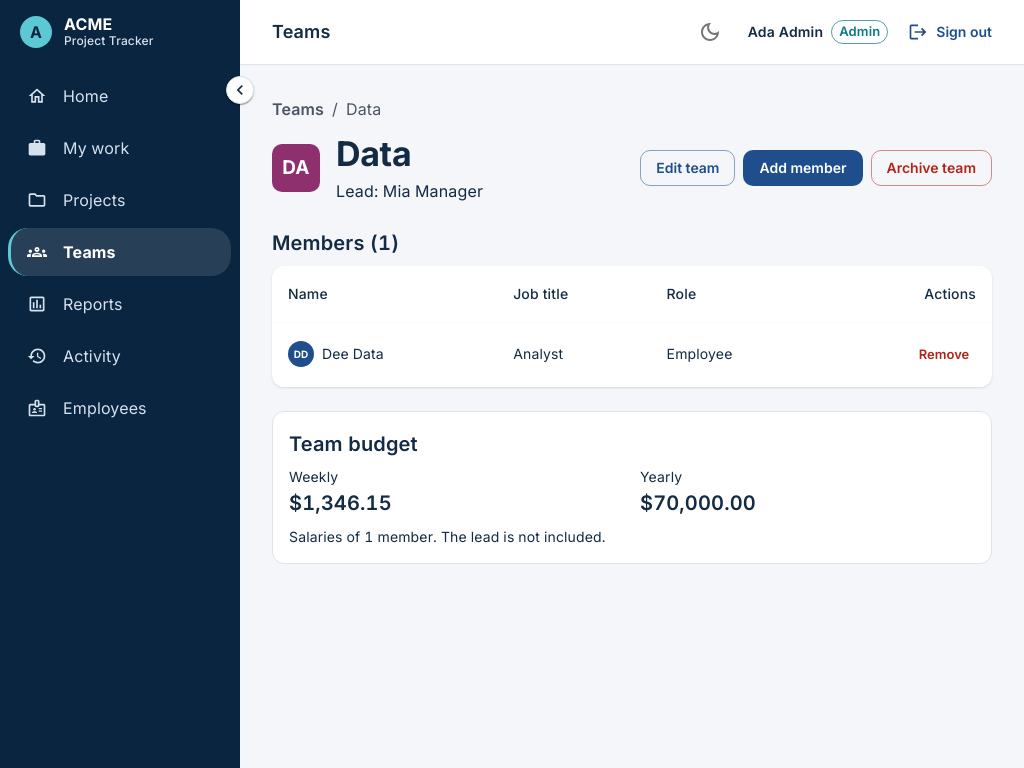
Team detail › admin sees members, can add and remove them, and sees the budget
Expected: the heading "Data" is shown, top-left (336, 133), bottom-right (411, 174)
Expected: the text "Lead: Mia Manager" is shown, top-left (336, 179), bottom-right (483, 203)
Click the button "Add member": (803, 168) top-left (744, 150), bottom-right (862, 186)
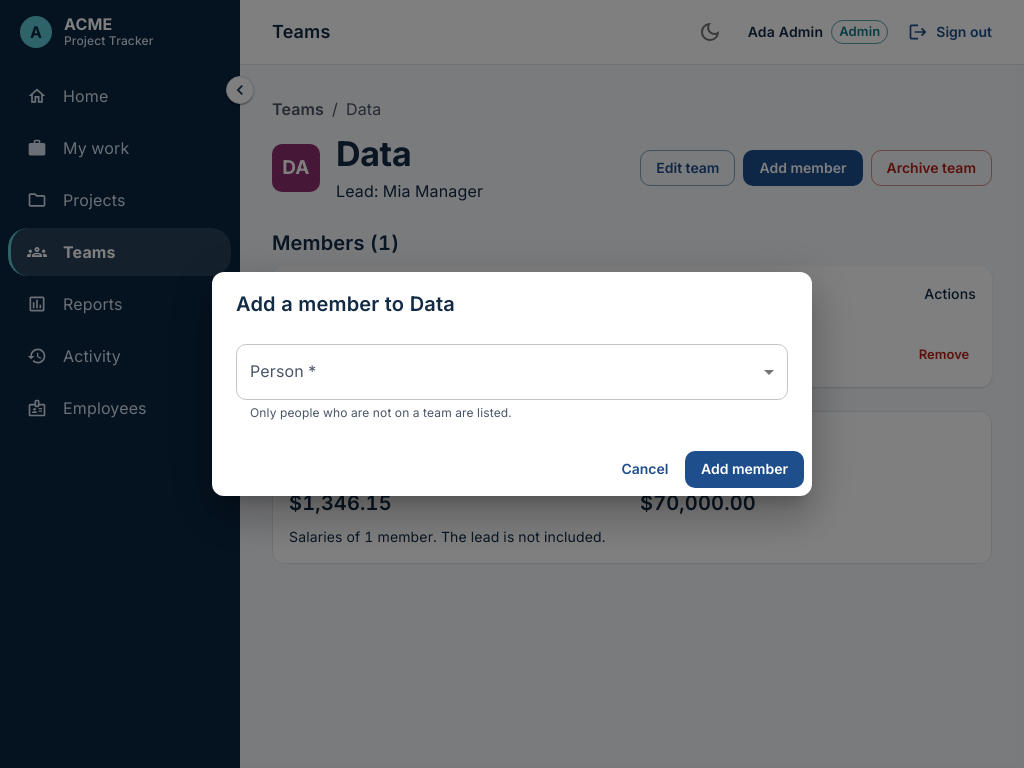
Click the dropdown named "person": (512, 372) top-left (236, 344), bottom-right (788, 400)
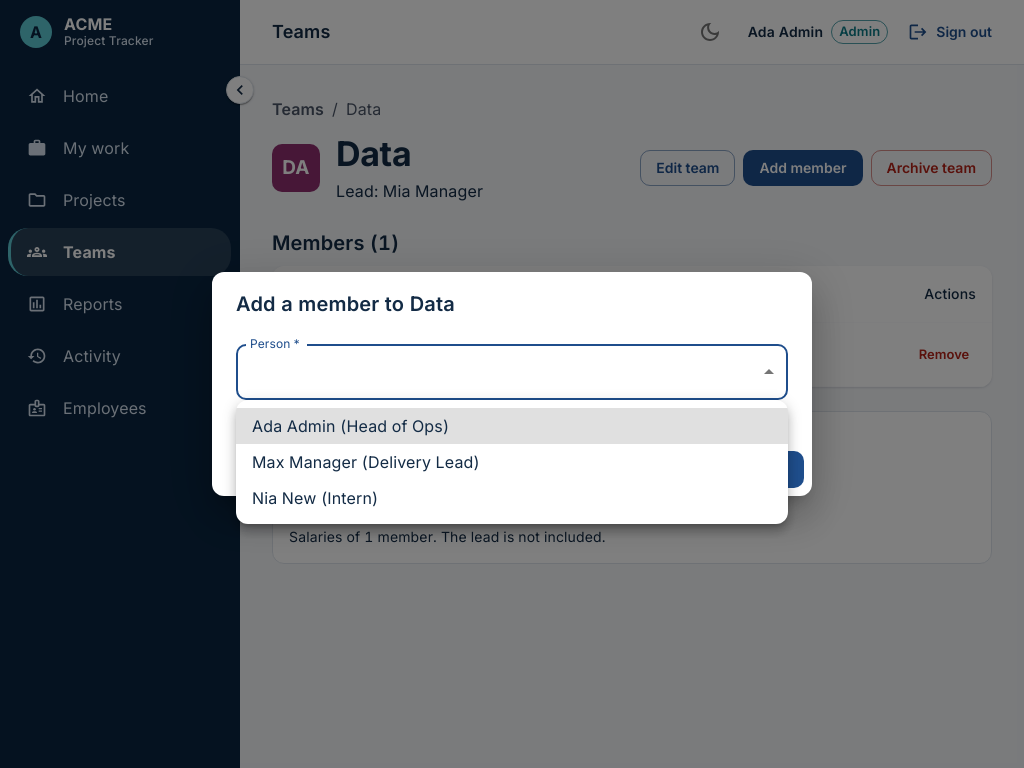
Now the option "Nia New (Intern)" is shown
Click the option "Nia New (Intern)": (315, 498) top-left (252, 488), bottom-right (378, 508)
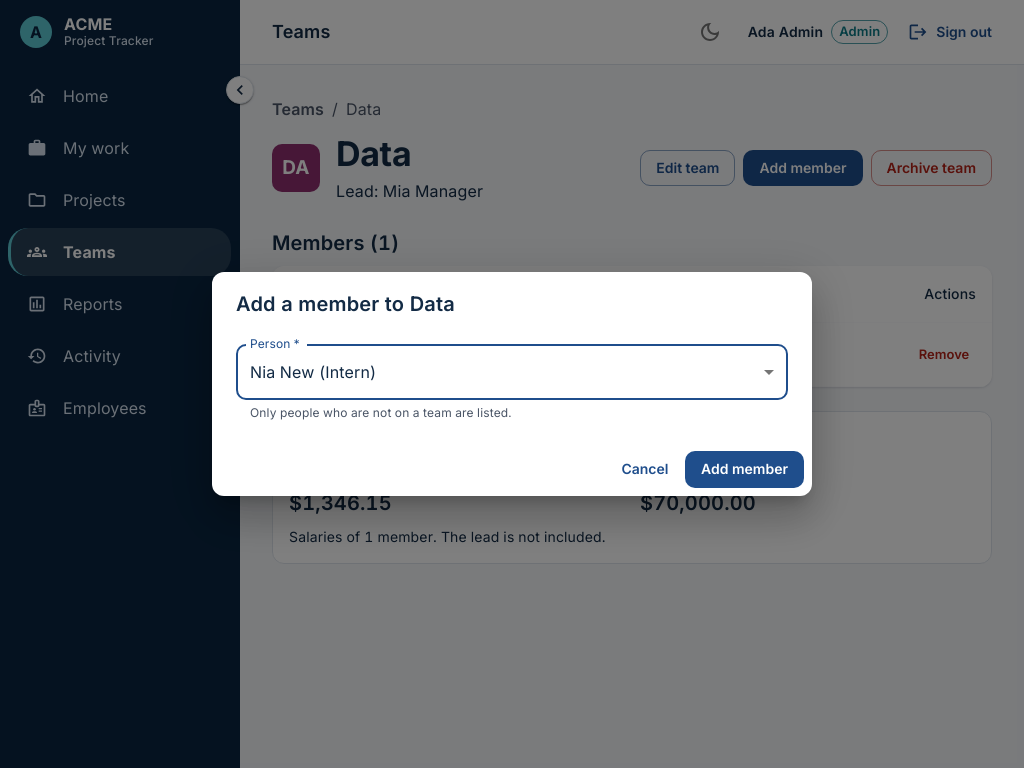
Click the button "Add member": (744, 469) top-left (685, 451), bottom-right (804, 488)
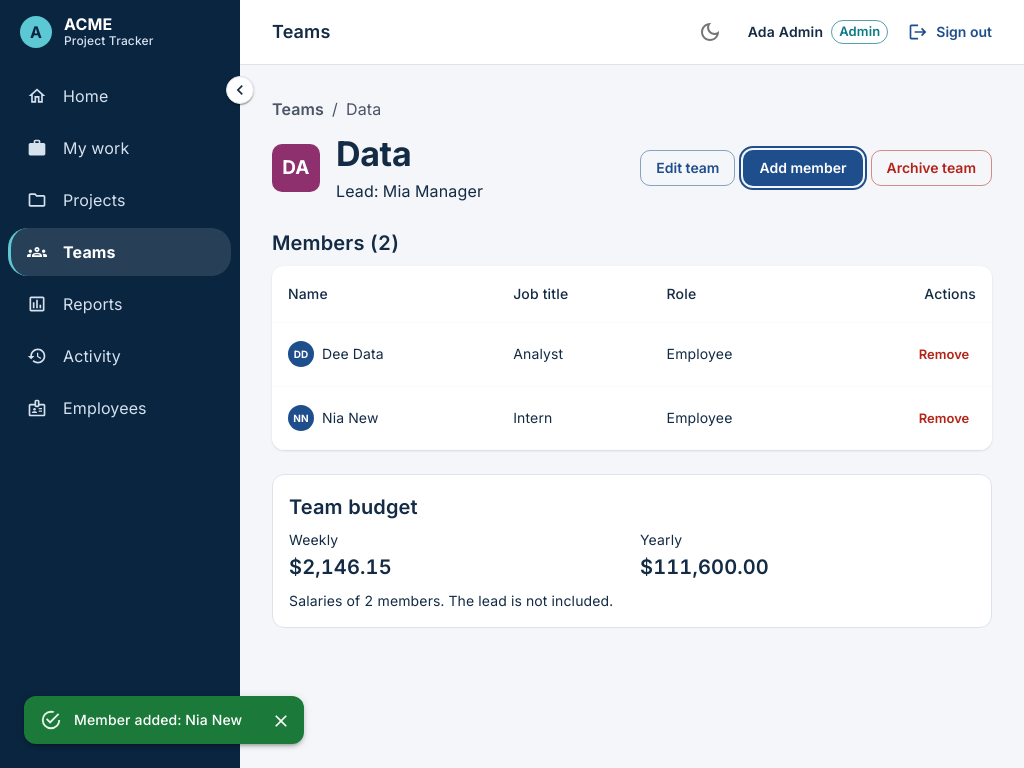
Now the text "Member added: Nia New" is shown, box top-left (74, 711), bottom-right (242, 728)
Now the row "Nia New Intern Employee Remove" is shown, box top-left (272, 386), bottom-right (992, 450)
Click the button with aria-label "Remove Dee Data": (944, 354) top-left (912, 339), bottom-right (976, 370)
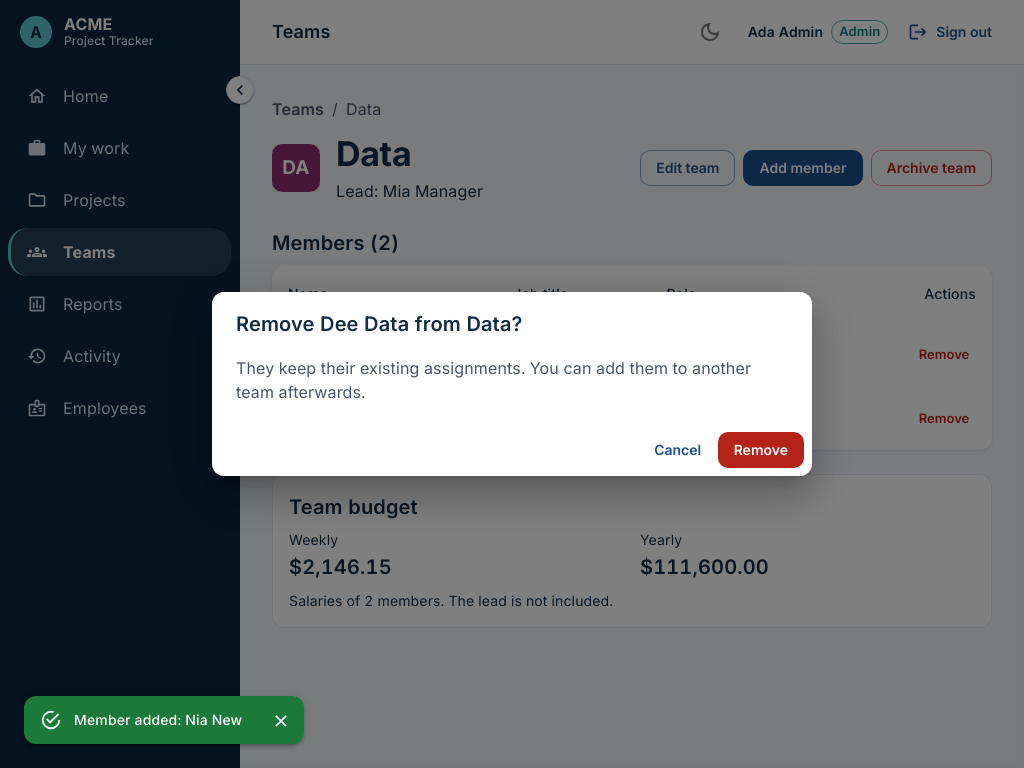
Click the button "Remove": (761, 450) top-left (718, 432), bottom-right (804, 468)
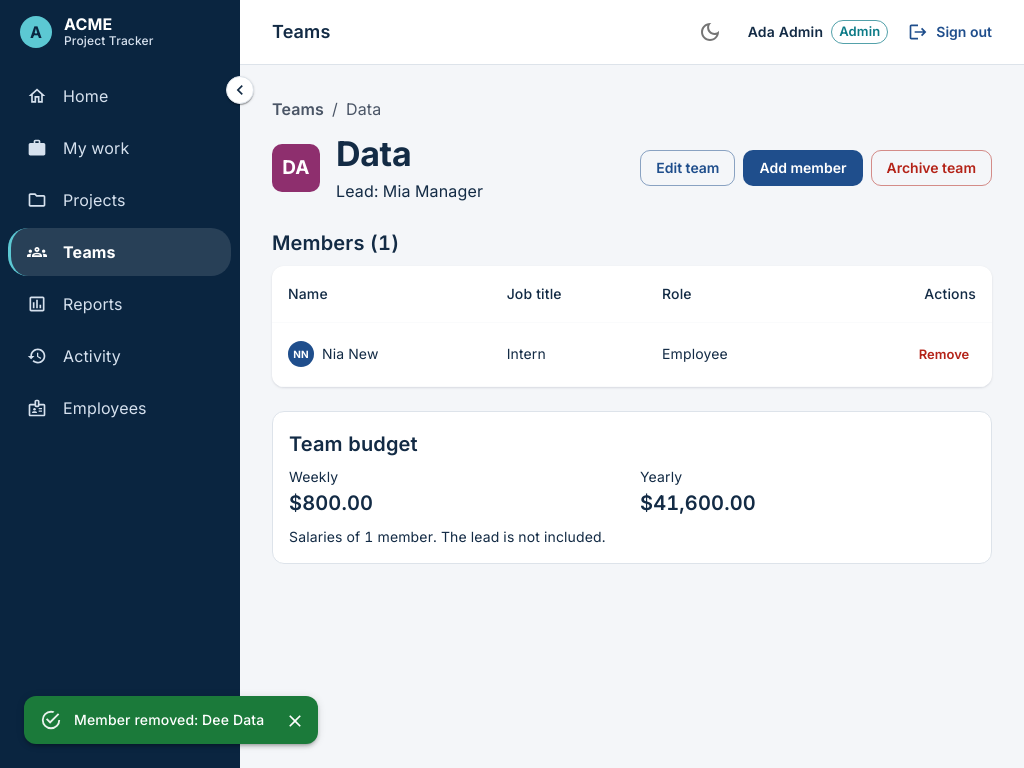
Now the text "Member removed: Dee Data" is shown, box top-left (74, 711), bottom-right (264, 728)
